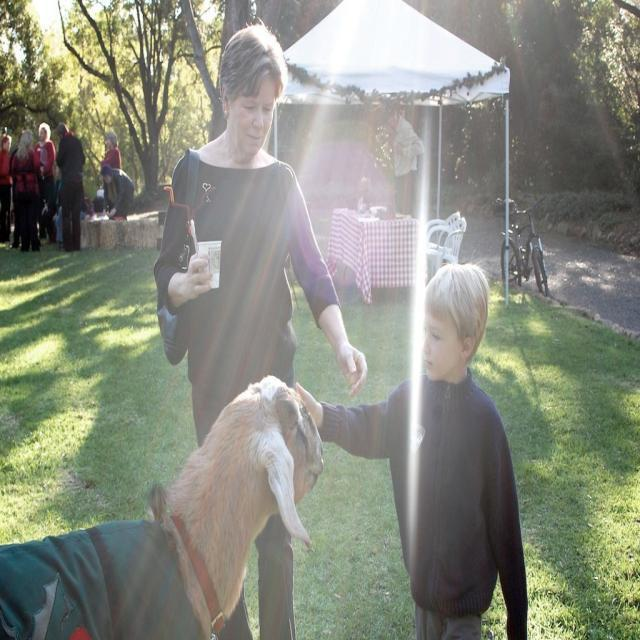Goat: (1, 373, 325, 638)
